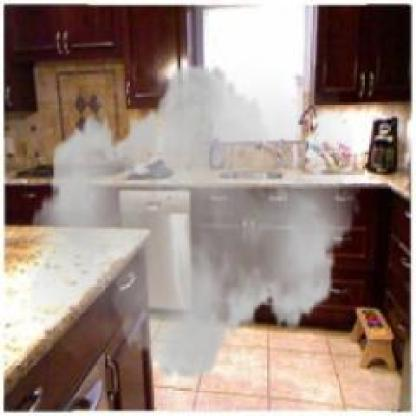Smoke: (24, 51, 361, 393)
